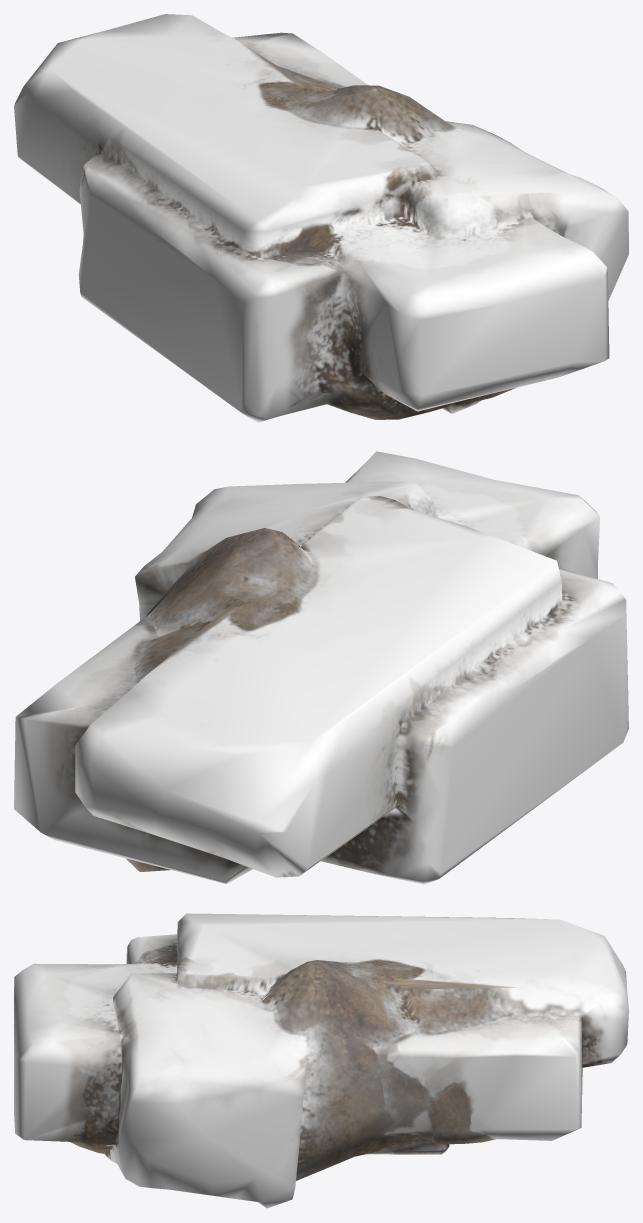
File: SM_MetalNode_4a.fbx
The picture shows the model from 3 angles, top to bottom: view 1: azimuth 30°, elevation 25°; view 2: azimuth 150°, elevation 25°; view 3: azimuth 270°, elevation 25°; orthographic projection. The views are drawn at different scales.
Parts seen in each view (by area): view 1: MetalNode_4a; view 2: MetalNode_4a; view 3: MetalNode_4a.
Part boxes in pixels (x1=…): MetalNode_4a: x1=14, y1=14, x2=628, y2=422; MetalNode_4a: x1=14, y1=451, x2=628, y2=884; MetalNode_4a: x1=14, y1=913, x2=628, y2=1208.
Bounding box in the file's own units: 0.7462 × 0.4571 × 1.2.
